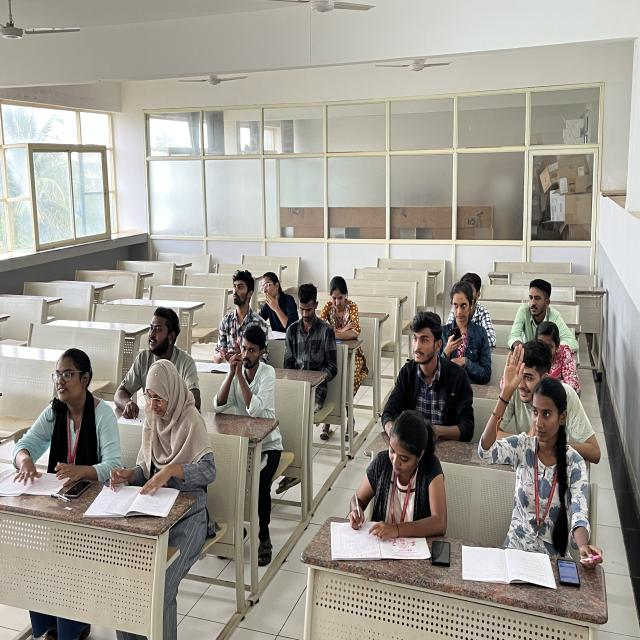Hand Rising: (491, 341, 582, 497)
Reading: (108, 358, 210, 516), (319, 276, 368, 351)
Using Phone: (434, 281, 486, 377)
Writing: (344, 422, 437, 556)
